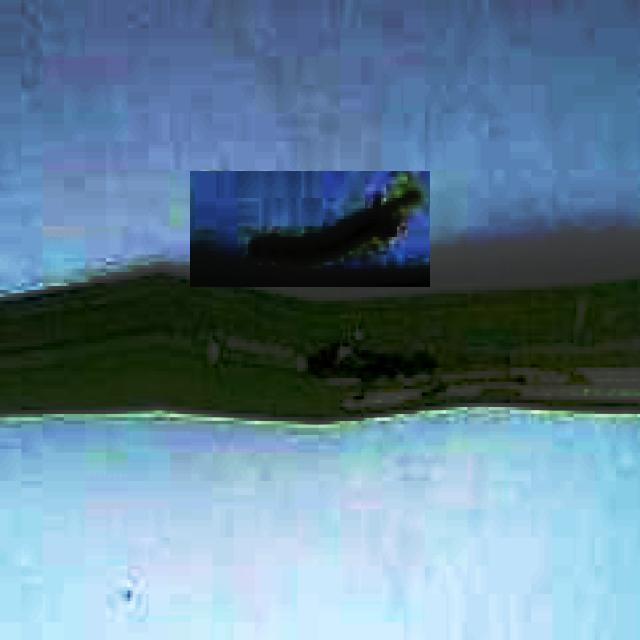leaf-folder: (190, 171, 430, 287)
